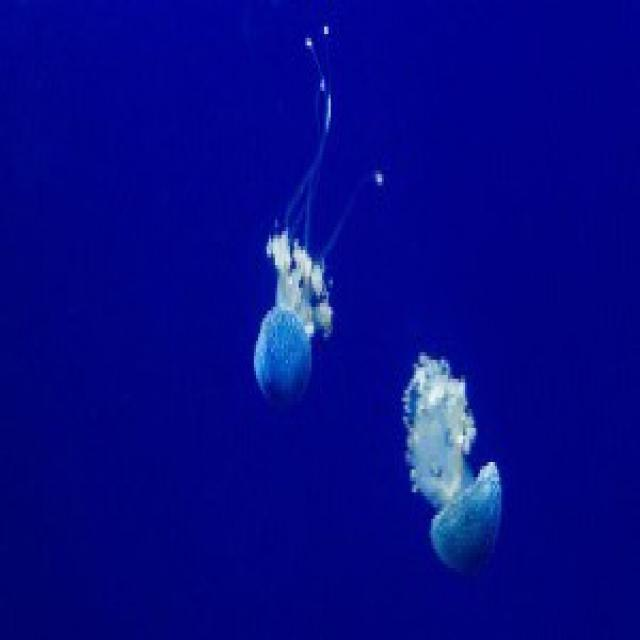Jellyfish: (243, 152, 356, 428), (382, 344, 515, 576)
